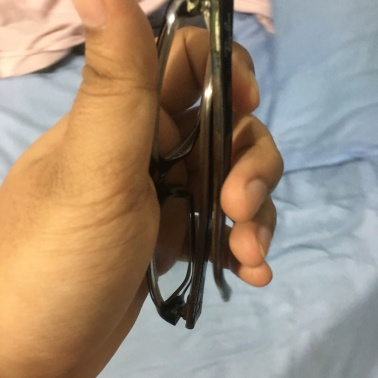glasses: (129, 4, 240, 329)
